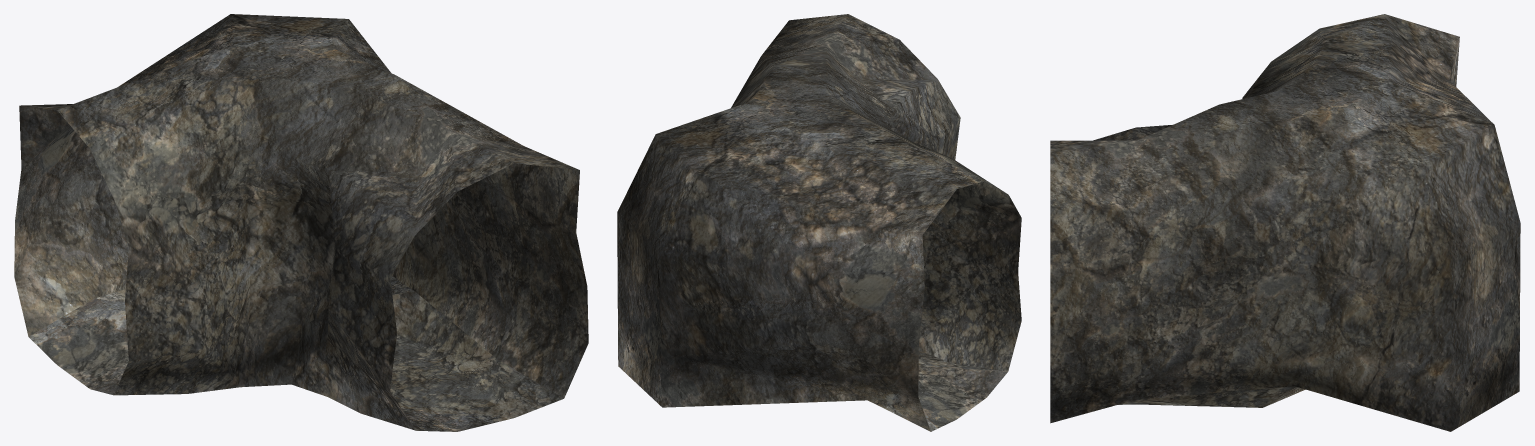
File: cave_piece_04.glb
3 views of the same model, side by side, from view 1: azimuth 30°, elevation 25°; view 2: azimuth 150°, elevation 25°; view 3: azimuth 270°, elevation 25° (orthographic). The views are drawn at different scales.
Parts seen in each view (by area): view 1: mine_04_mine_0; view 2: mine_04_mine_0; view 3: mine_04_mine_0.
Part boxes in pixels (x1,y1,x2,y2): mine_04_mine_0: (14, 14, 588, 431); mine_04_mine_0: (617, 14, 1021, 431); mine_04_mine_0: (1050, 14, 1520, 431).
Size of the model in its own units: 6.47 by 4.75 by 7.32.
1 material, 1 textured.
